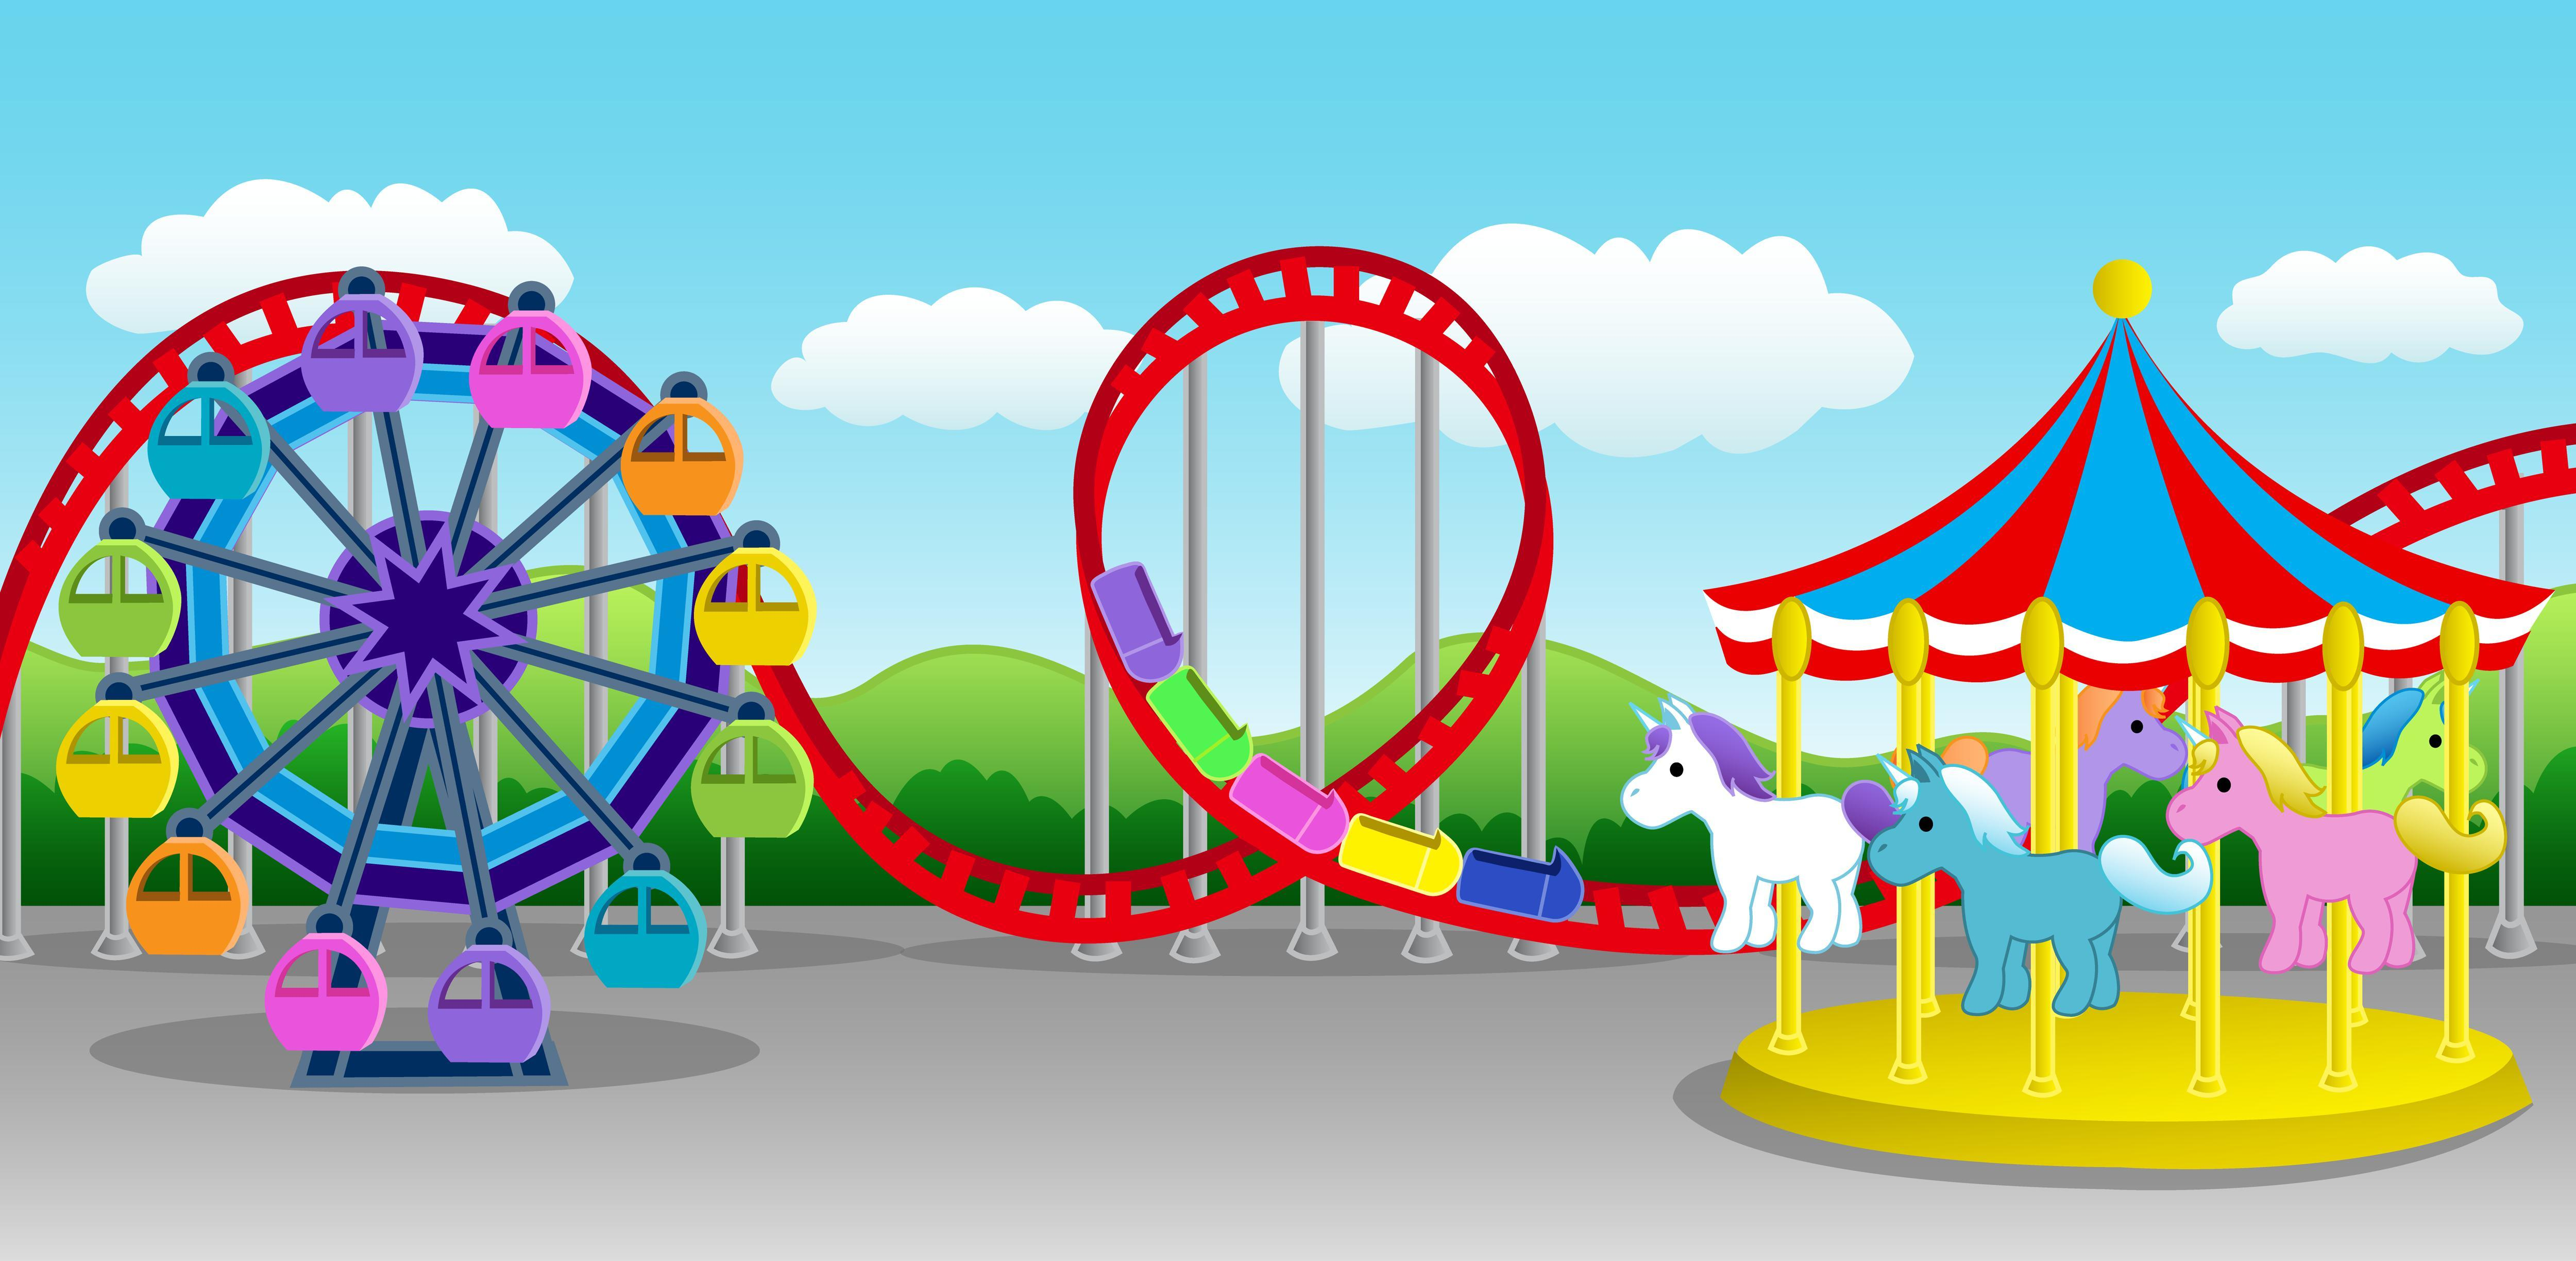horse: (2146, 699, 2509, 980), (1851, 738, 2172, 1026), (1613, 676, 1893, 983), (1952, 674, 2182, 860)
